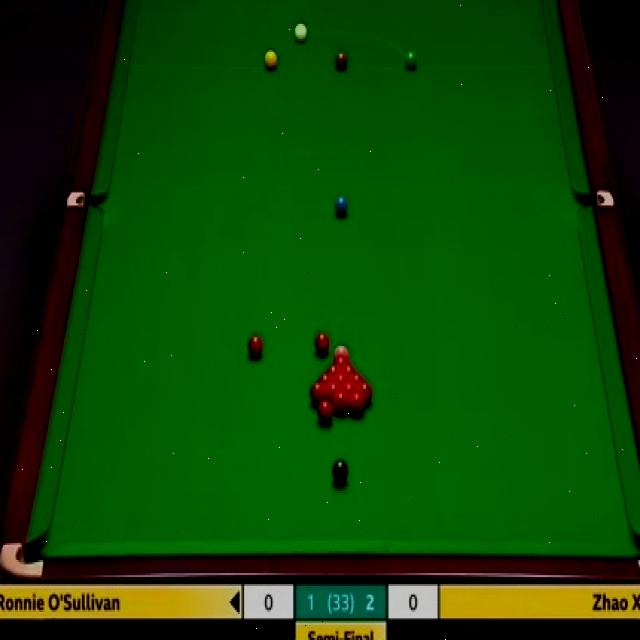black-ball: (332, 458, 349, 486)
blue-ball: (334, 194, 348, 214)
brown-ball: (334, 52, 348, 70)
green-ball: (404, 48, 419, 73)
pink-ball: (334, 345, 351, 363)
red-ball: (350, 389, 365, 420), (310, 379, 326, 406), (314, 332, 330, 358), (332, 390, 348, 414), (249, 334, 263, 361), (356, 383, 374, 404), (317, 402, 333, 424), (326, 383, 341, 403), (333, 373, 350, 389), (316, 372, 332, 387), (342, 361, 356, 378), (342, 383, 358, 397), (327, 362, 340, 378), (350, 374, 365, 384)
white-ball: (294, 21, 308, 45)
yellow-ball: (263, 49, 278, 71)
